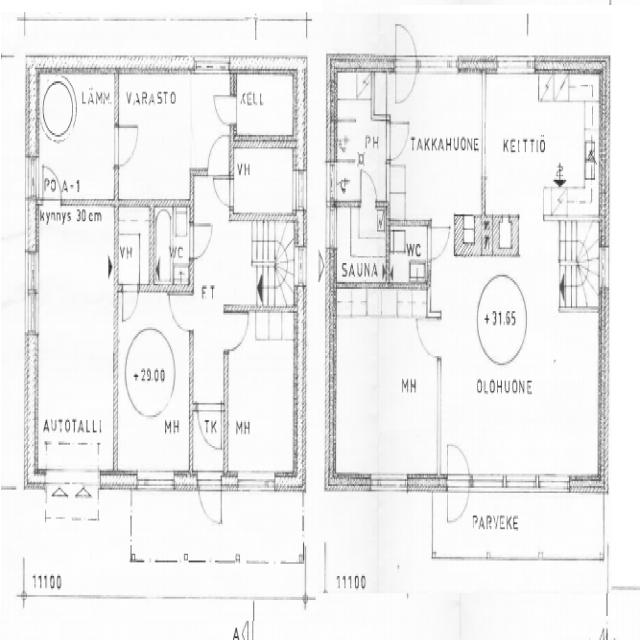door: (444, 438, 471, 530), (392, 18, 418, 108), (196, 469, 225, 529), (194, 399, 226, 452), (112, 120, 142, 168), (205, 128, 232, 179), (414, 312, 442, 360), (384, 116, 412, 164), (223, 308, 251, 354), (168, 289, 194, 333), (188, 219, 214, 262), (210, 89, 238, 127), (427, 220, 452, 262), (40, 160, 62, 202), (119, 282, 140, 324), (212, 171, 234, 208), (358, 167, 378, 205)
window: (44, 465, 102, 502), (22, 246, 41, 338), (133, 468, 178, 496), (368, 470, 412, 498), (535, 468, 573, 498), (236, 470, 276, 497), (495, 54, 536, 78), (501, 470, 540, 495), (417, 54, 460, 76), (470, 471, 508, 493), (291, 163, 306, 213), (326, 202, 339, 251), (598, 244, 609, 288)
zone: (429, 217, 606, 487), (33, 203, 118, 480), (330, 291, 439, 487), (483, 71, 602, 217), (386, 69, 486, 220), (116, 284, 193, 478), (224, 309, 298, 481), (36, 68, 118, 197), (117, 71, 194, 197), (332, 68, 388, 204), (231, 143, 297, 221), (332, 201, 389, 285), (232, 70, 296, 142), (150, 202, 192, 290), (37, 72, 83, 150), (116, 202, 154, 288), (389, 221, 429, 286), (195, 399, 225, 454)
